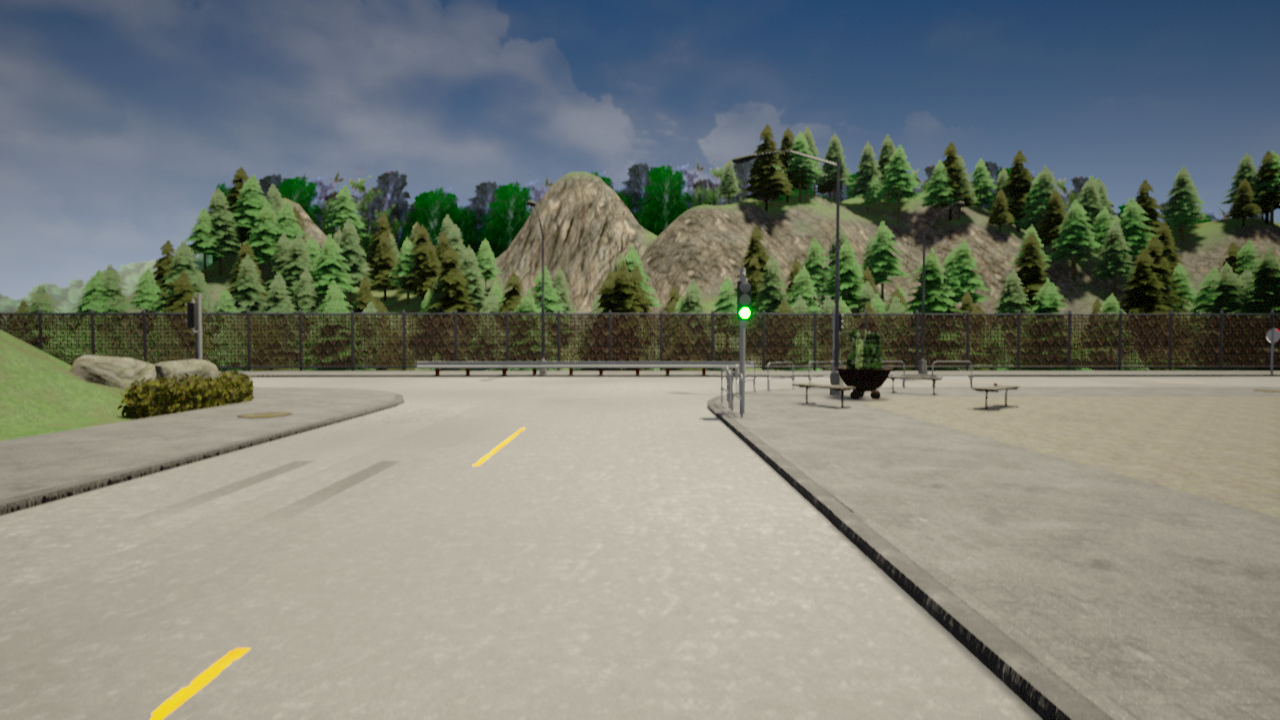green: (734, 281, 752, 321)
